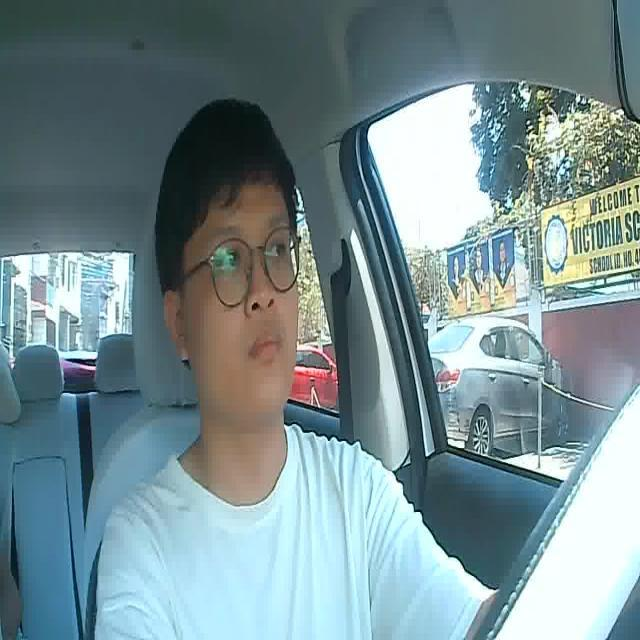Attentive: (161, 96, 308, 407)
Eye-Open: (215, 248, 248, 274), (267, 239, 291, 266)
Normal: (248, 331, 284, 366)
